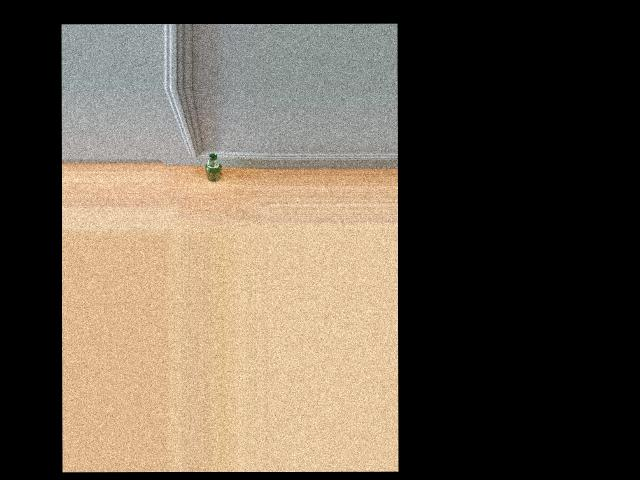beer: (204, 153, 222, 181)
